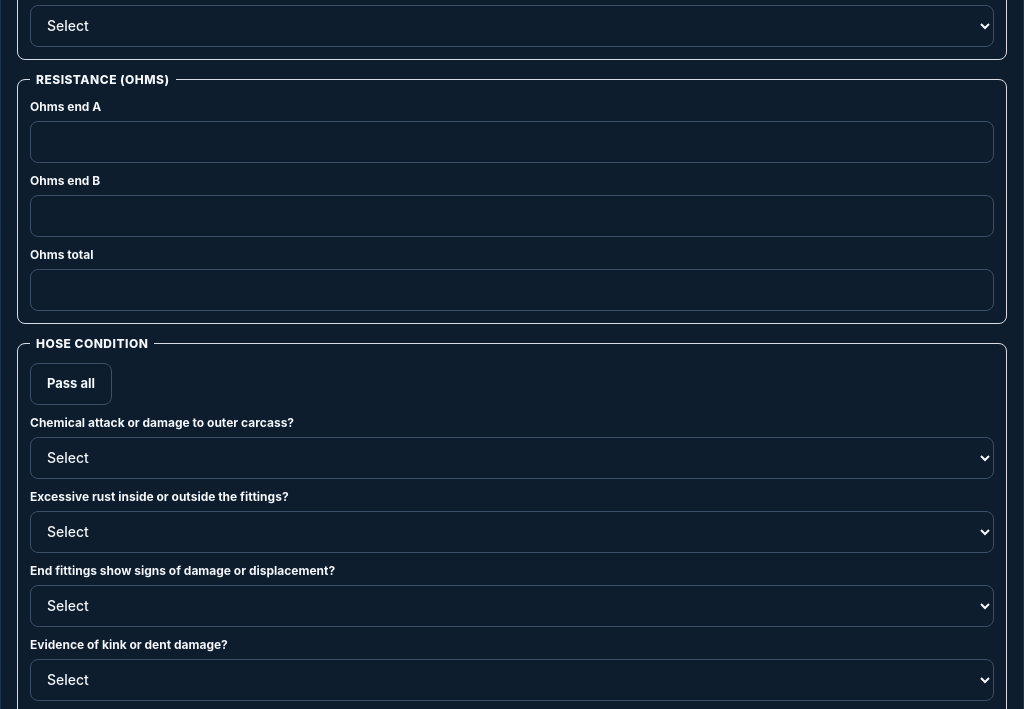
Test case: recording an inspection once it is started (staff) › answers all seven conditions only when asked to pass them all
(page scrolled)
Click the button "Pass all".
click(71, 384)  # box [30,363,112,405]
(page scrolled)
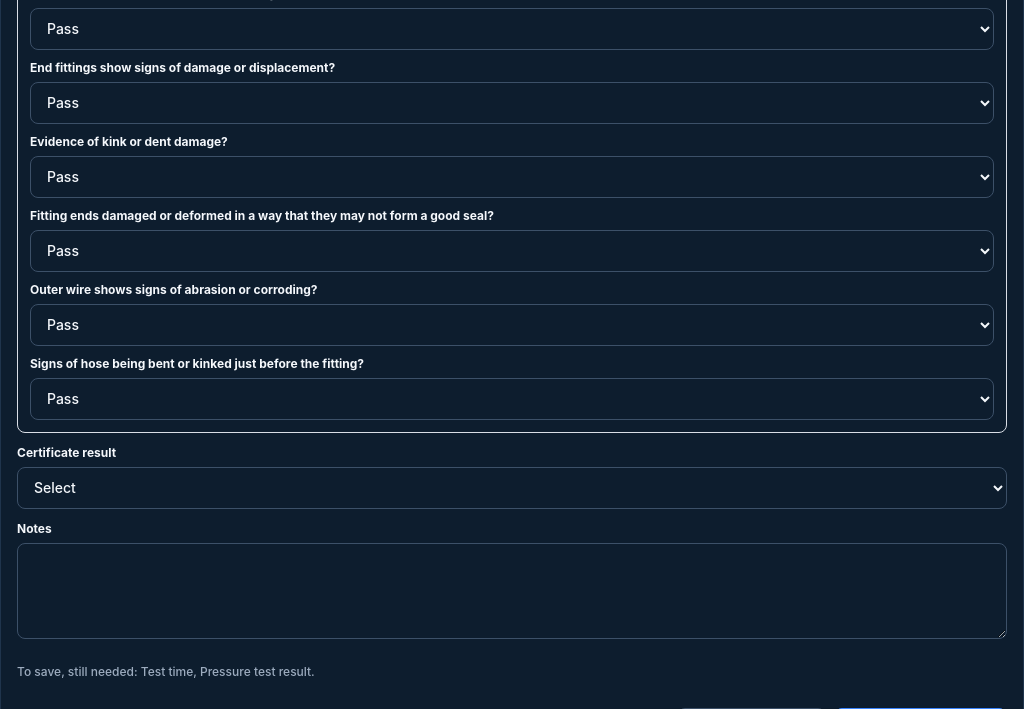
Expected: the dropdown labelled "Excessive rust inside or outside the fittings?" shows "Pass", [30,8,994,50]
Expected: the dropdown labelled "End fittings show signs of damage or displacement?" shows "Pass", [30,82,994,124]
Expected: the dropdown labelled "Evidence of kink or dent damage?" shows "Pass", [30,156,994,198]
